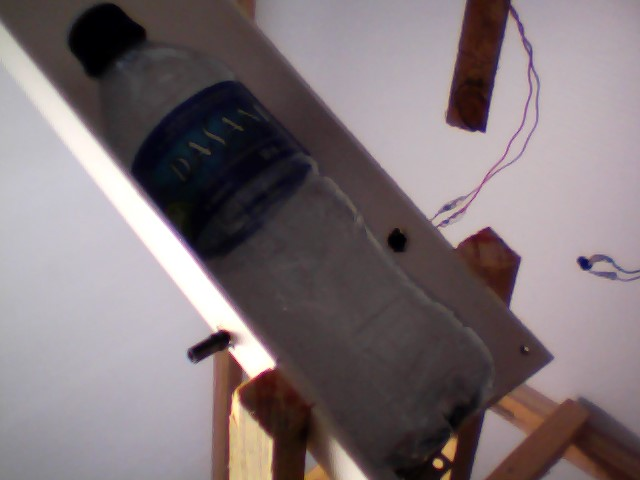plastico: (64, 1, 498, 473)
